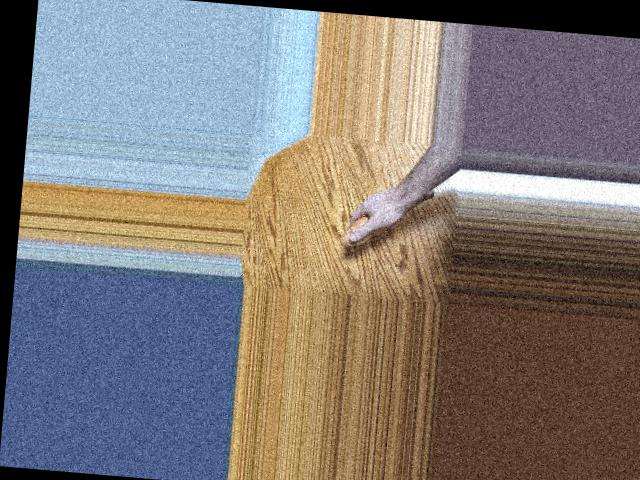sweet_potato: (338, 175, 439, 254)
